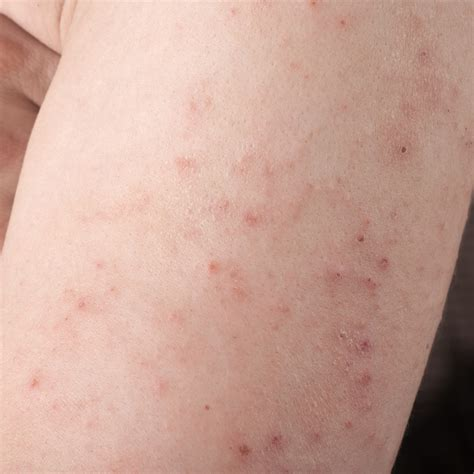Bacterial Infection: (192, 169, 389, 432)
